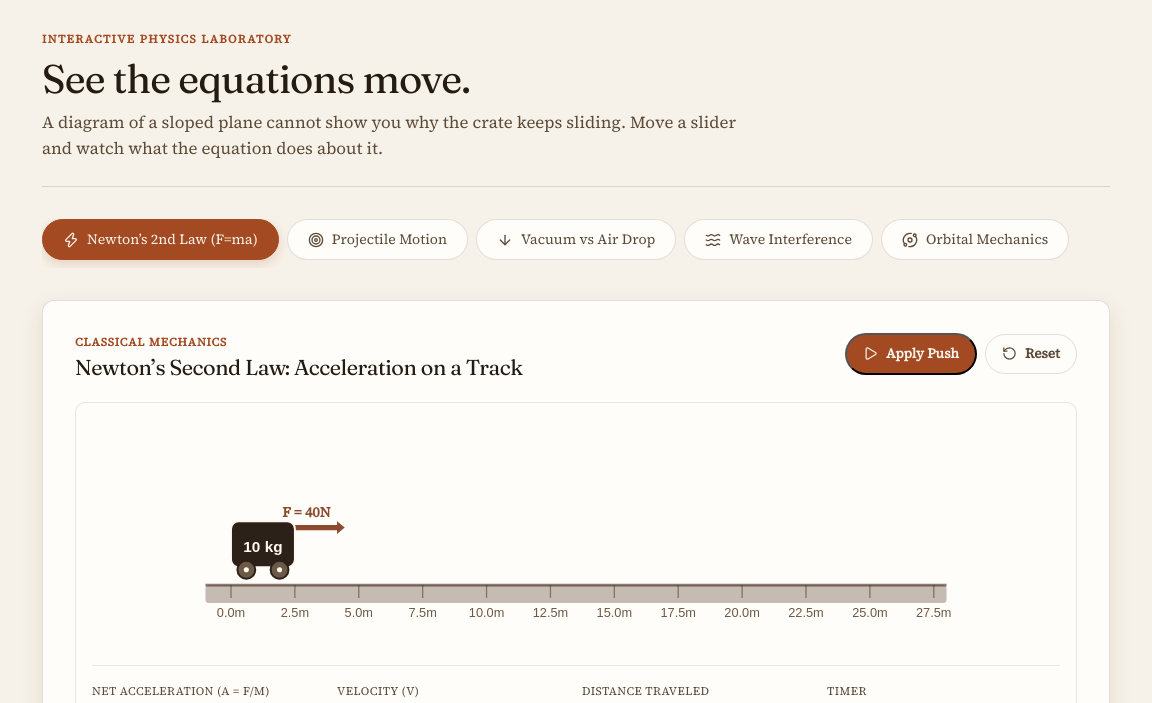
Physics simulations › starts the wave sim paused with an explanation when motion is reduced
Click the tab "Wave Interference".
click(779, 240)  # box [684, 220, 873, 260]
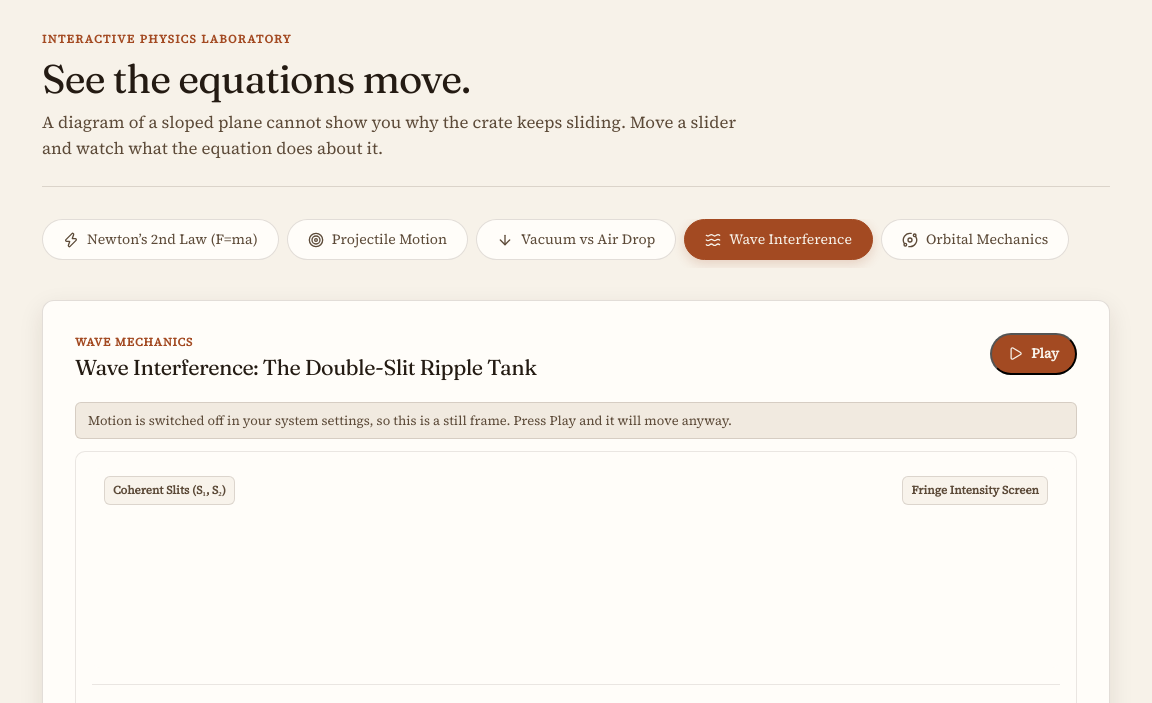
expect the message shows "Motion is switched off in your system settings": met, box [88, 412, 732, 429]
Click the button "Play".
click(1034, 354)  # box [990, 333, 1077, 375]
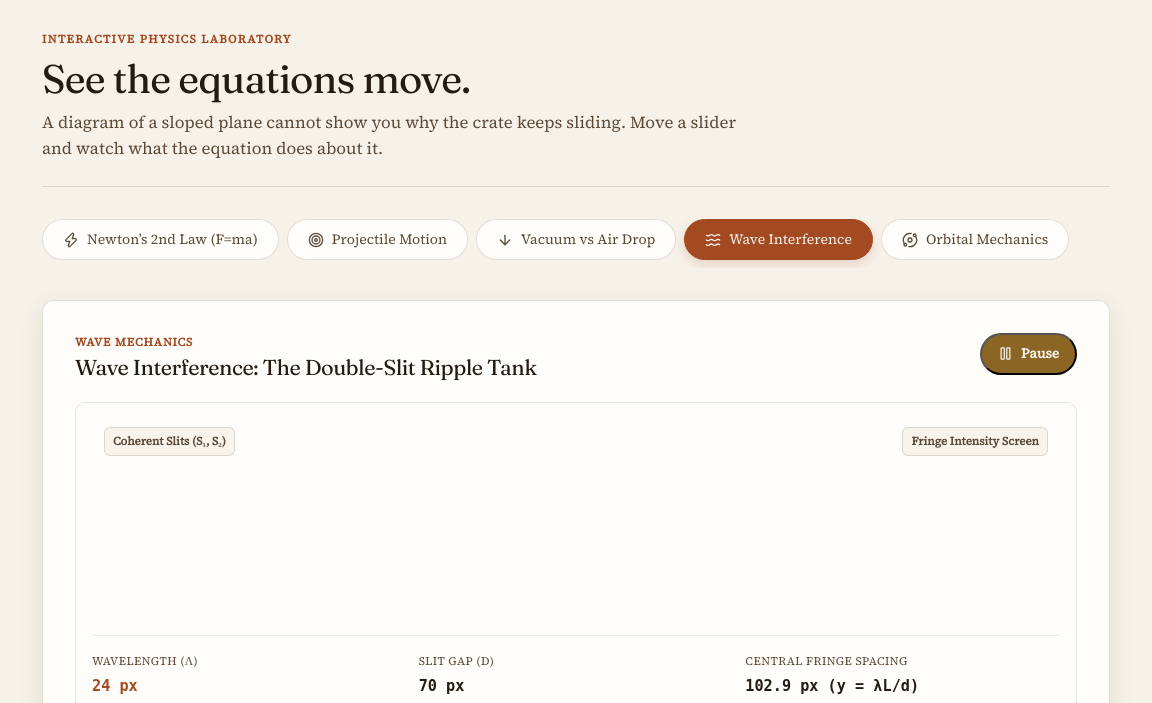
expect the button "Pause" is shown: met, box [980, 333, 1077, 375]
expect the message "Motion is switched off in your system settings, so this is a still frame. Press" is gone: met
